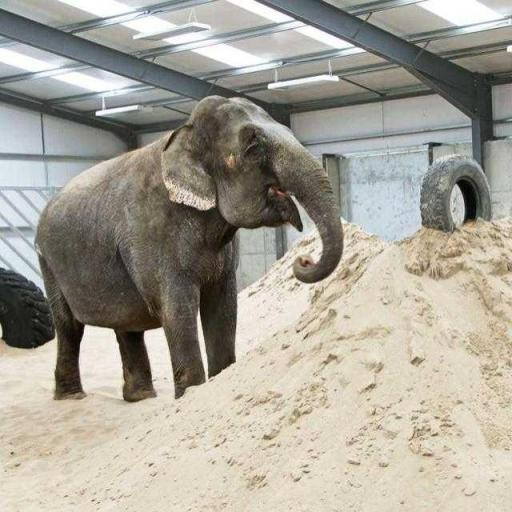Elephant: (33, 93, 344, 403)
